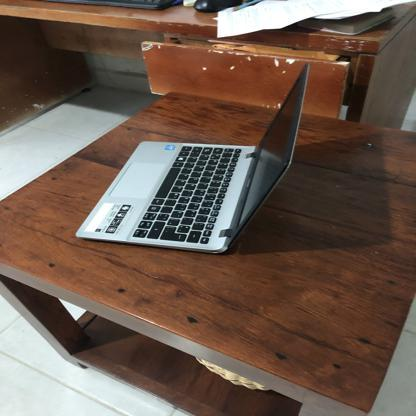laptop: (78, 62, 311, 253)
